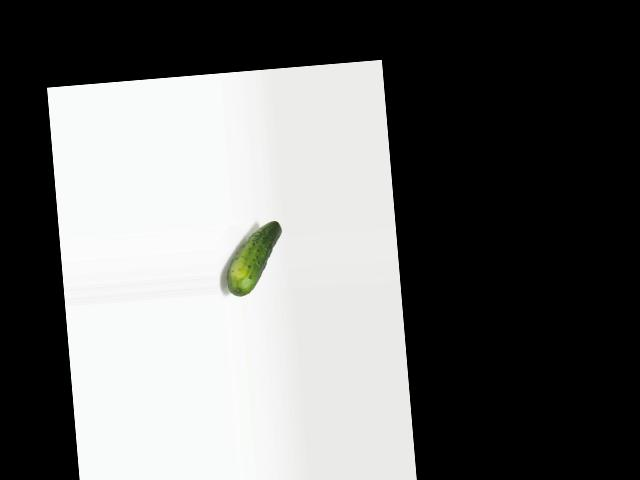cucumber: (222, 220, 286, 296)
